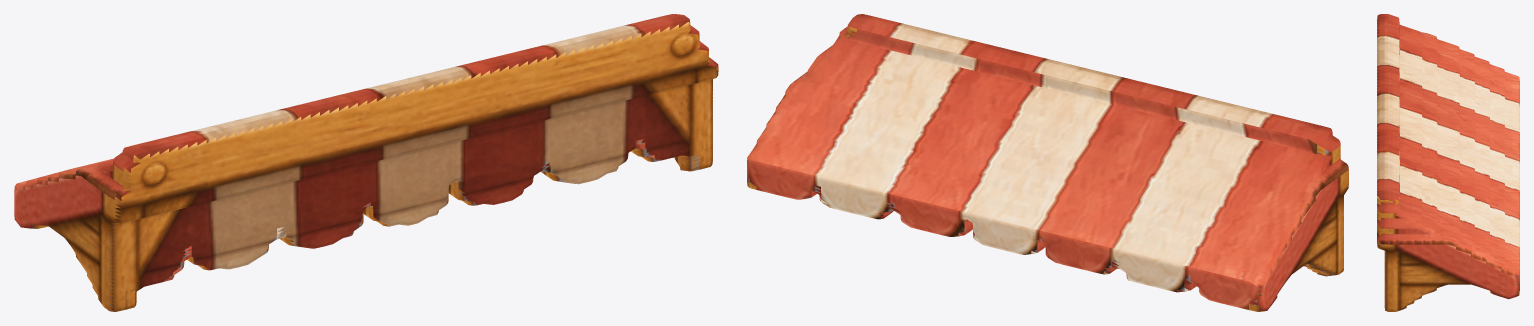
File: bakery-awning.glb
3 renders of one model, left to right at view 1: azimuth 30°, elevation 25°; view 2: azimuth 150°, elevation 25°; view 3: azimuth 270°, elevation 25°, orthographic. The views are drawn at different scales.
Bounding box in the file's own units: 3.87 × 0.9962 × 1.17.
Materials: 1 (1 with a texture image).
